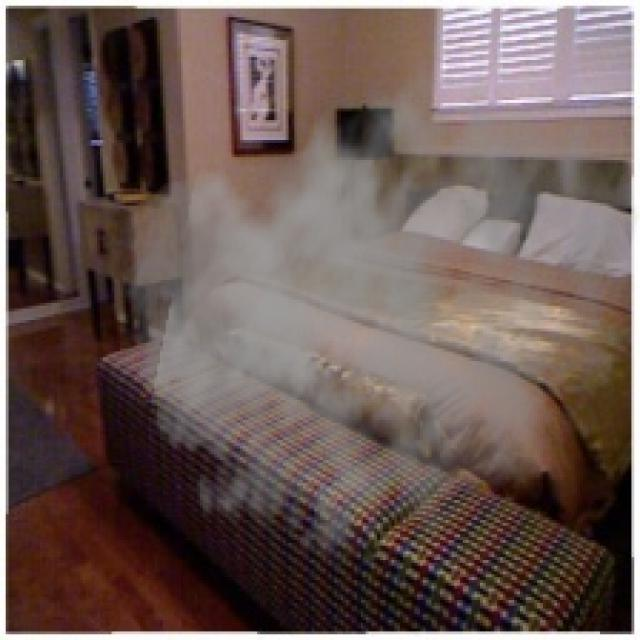smoke: (114, 37, 637, 580)
